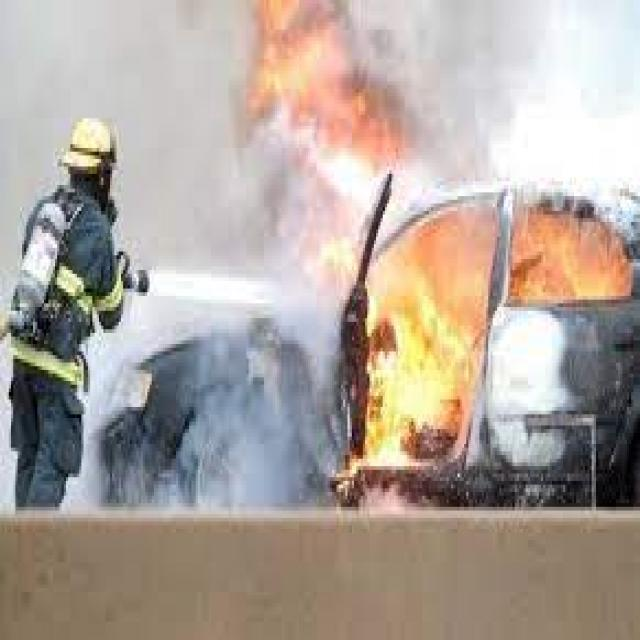fire: (343, 226, 484, 470), (244, 3, 416, 188), (499, 196, 640, 318)
smoke: (167, 248, 348, 514)
